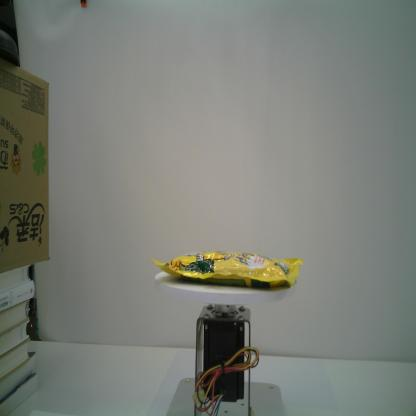Seasoner: (149, 249, 305, 292)
